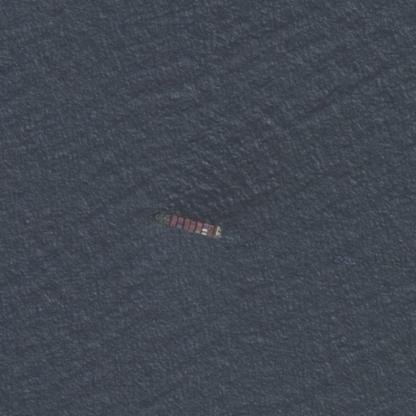ship: (0, 194, 58, 223)
